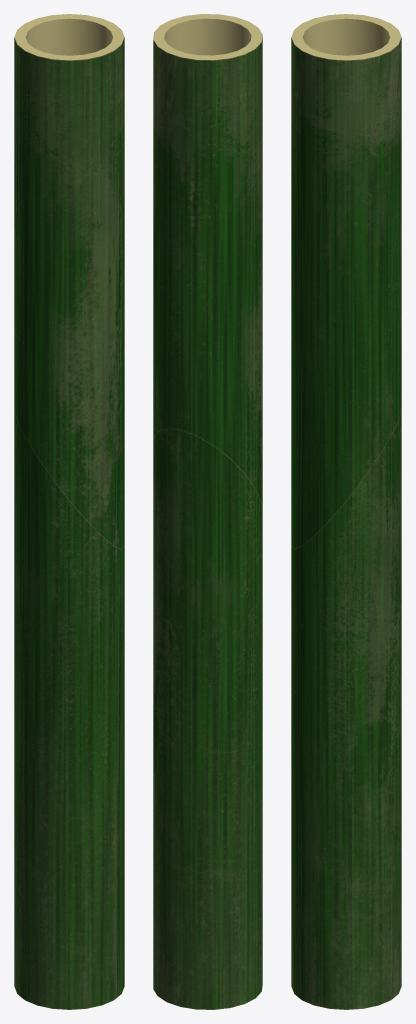
Rendered from bamboo04.fbx.
The picture shows the model from 3 angles, left to right: view 1: azimuth 90°, elevation 25°; view 2: azimuth 150°, elevation 25°; view 3: azimuth 270°, elevation 25°; orthographic projection.
Visible parts, largest first — view 1: bamboo04_down, bamboo04_up; view 2: bamboo04_down, bamboo04_up; view 3: bamboo04_down, bamboo04_up.
Part boxes in pixels (bbox=[...]): bamboo04_down: bbox=[14, 410, 124, 1009]; bamboo04_up: bbox=[14, 14, 124, 549]; bamboo04_down: bbox=[153, 429, 262, 1009]; bamboo04_up: bbox=[153, 14, 262, 512]; bamboo04_down: bbox=[291, 410, 401, 1009]; bamboo04_up: bbox=[291, 14, 401, 549].
Bounding box in the file's own units: 23.1 × 220 × 23.1.
